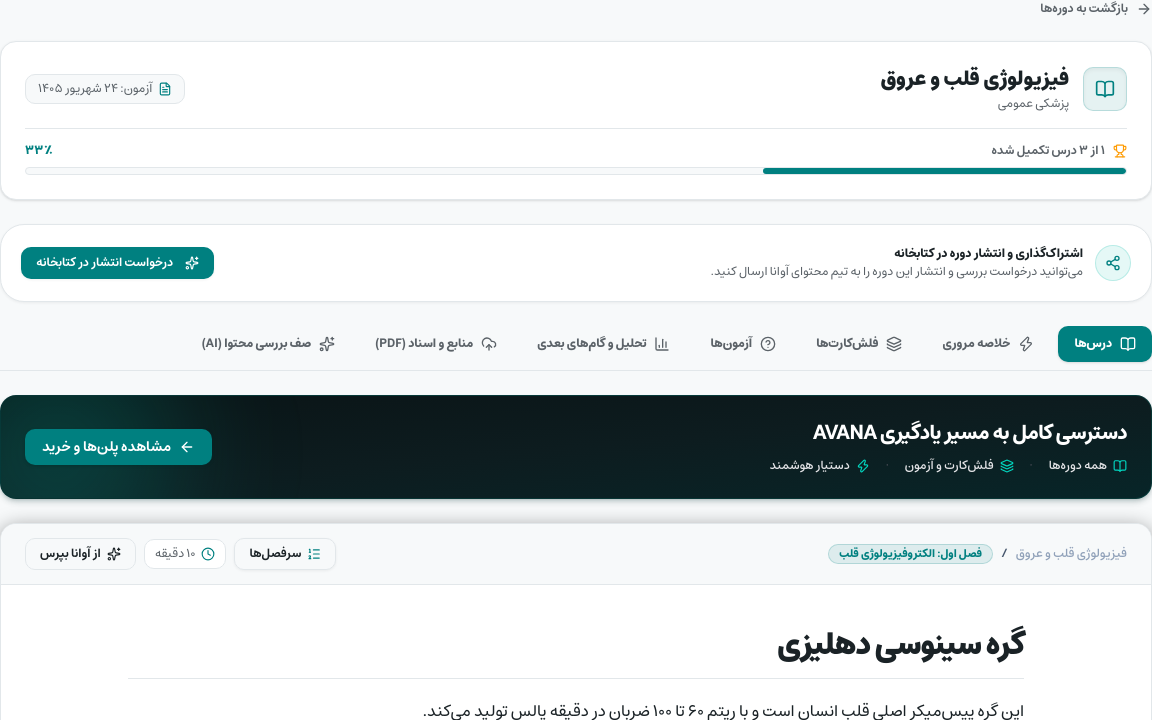
Test: Course Lesson Study Page UI/UX Refinements › opens curriculum drawer via button and closes via close button
This screenshot has width=1152, height=720.
Check: the heading "گره سینوسی دهلیزی" is shown, box [128, 625, 1024, 679]
Check: the dialog "سرفصل‌های دوره" is not shown
Note: Open drawer via "سرفصل‌ها" trigger button
Click the button with aria-label "نمایش سرفصل‌های دوره".
click(286, 554)  # box [234, 538, 336, 570]
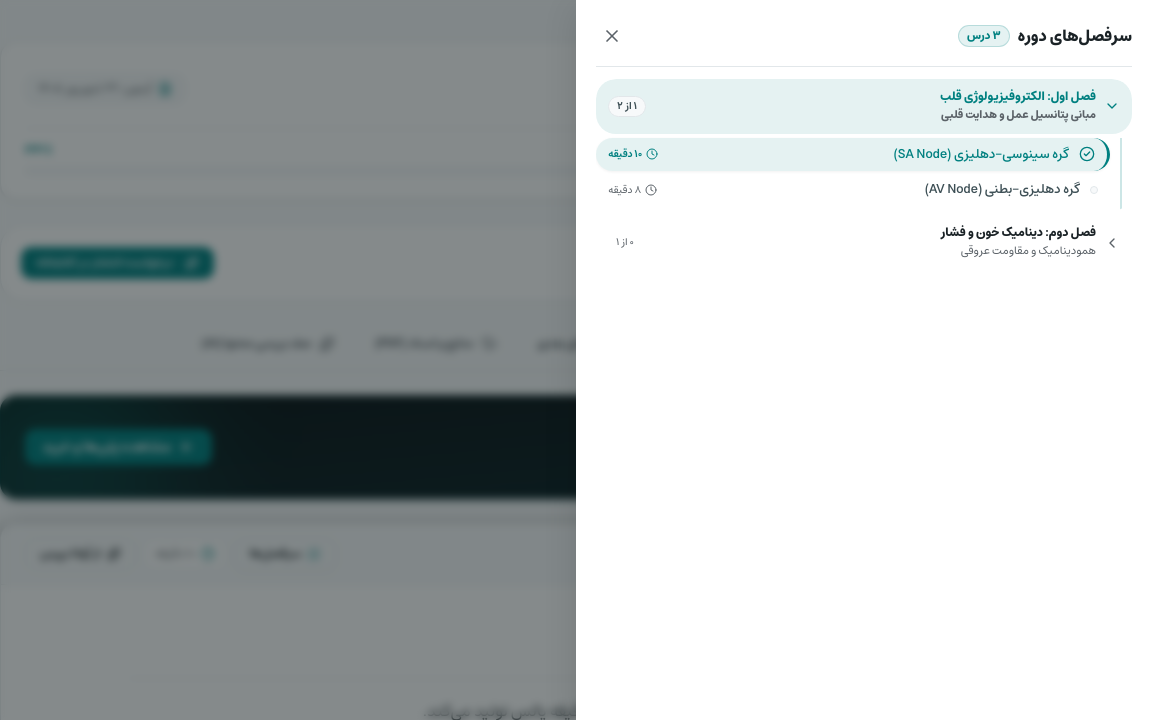
Check: the dialog "سرفصل‌های دوره" is shown, box [576, 0, 1151, 719]
Note: Close drawer via close button (X)
Click the button named "بستن منوی سرفصل‌ها".
click(612, 36)  # box [596, 20, 628, 52]
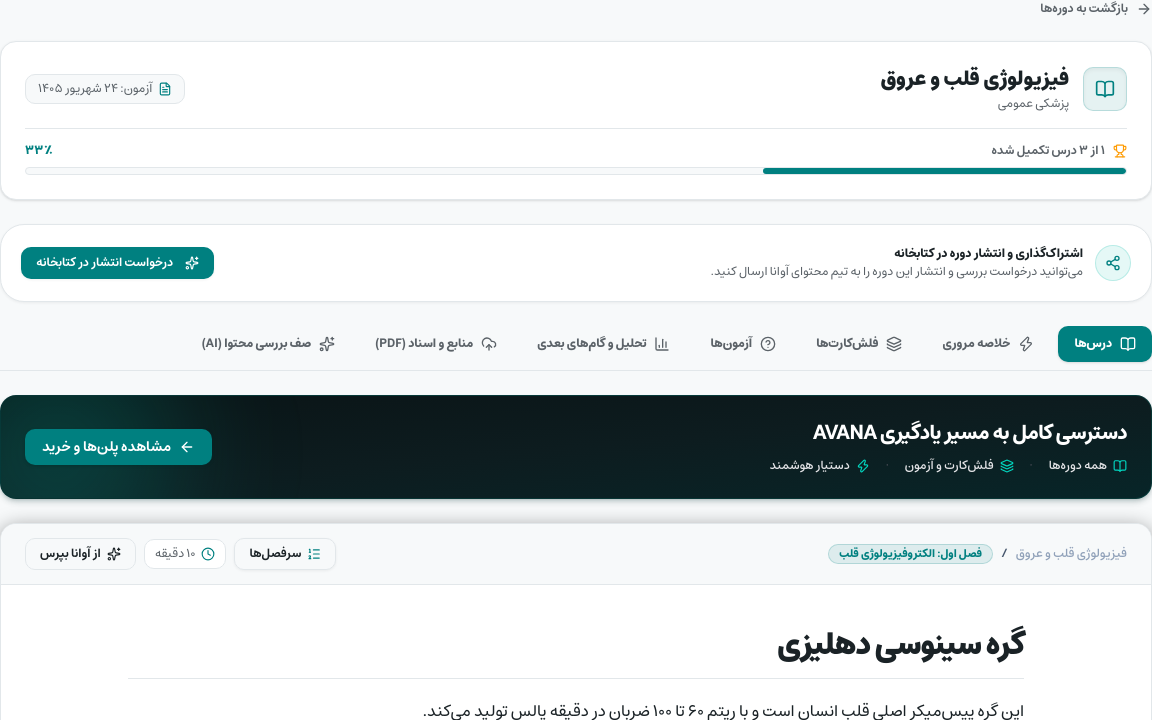
Check: the heading "سرفصل‌های دوره" is gone
